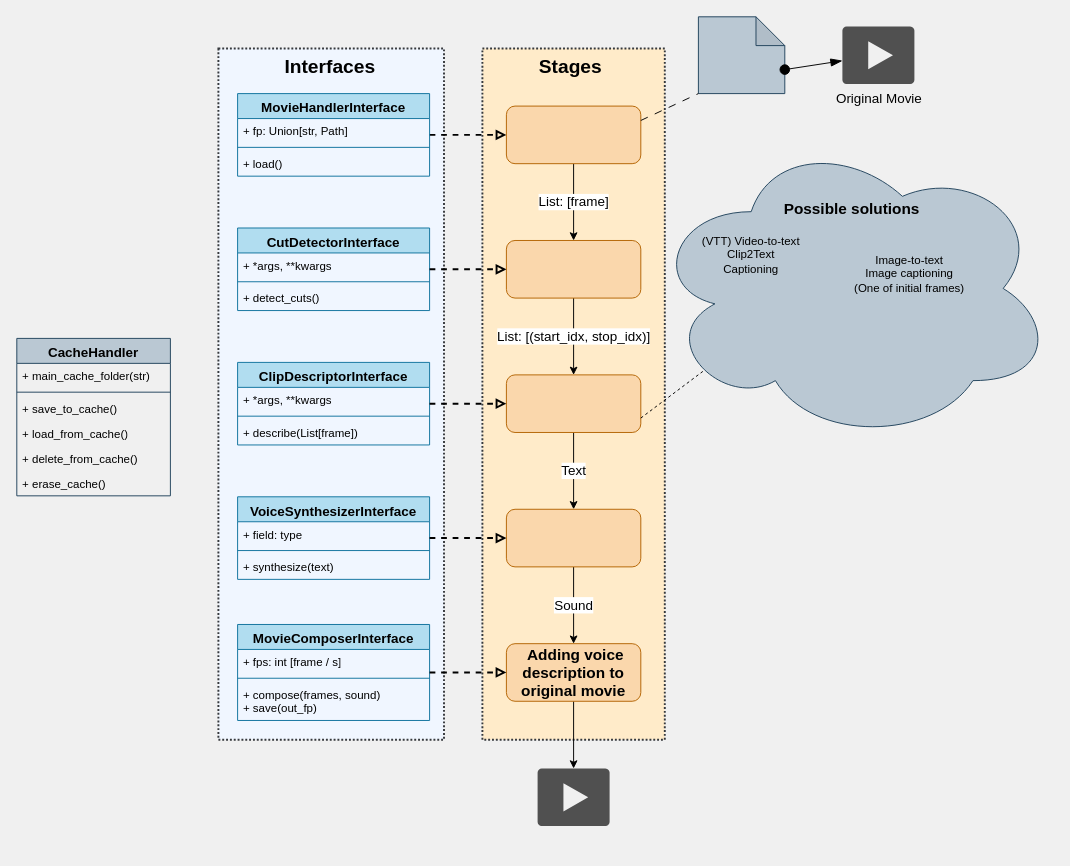
Image size: 1070x866. Some labels were removed from this diagram. The shapes that lost their labels are listed below. From the top down, each one's centre as x and y in pixels, then its label:
(741,55): Movie path
(573,134): Loading movie
(573,269): Splitting into shots
(573,403): Generating description for every shot
(573,537): Synthesizing text description to voice description
(573,797): Processed Movie
